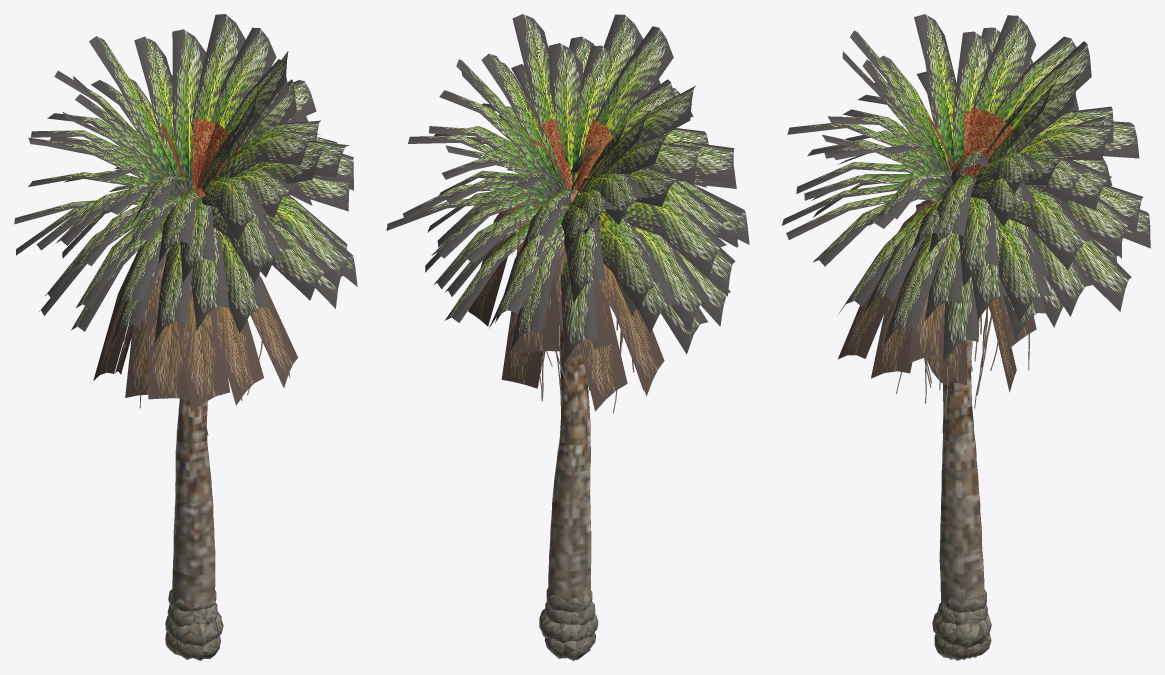
The model's file is palm.glb.
The picture shows the model from 3 angles, left to right: view 1: azimuth 30°, elevation 25°; view 2: azimuth 150°, elevation 25°; view 3: azimuth 270°, elevation 25°; orthographic projection.
Parts seen in each view (by area): view 1: Date_Palm; view 2: Date_Palm; view 3: Date_Palm.
Boxes of the visible parts, box(x1,y1,x2,y2) form: Date_Palm: box(14, 14, 357, 660); Date_Palm: box(386, 14, 749, 660); Date_Palm: box(781, 14, 1150, 660).
Bounding box in the file's own units: 8.68 × 16.47 × 8.99.
Materials: 1 (1 with a texture image).
